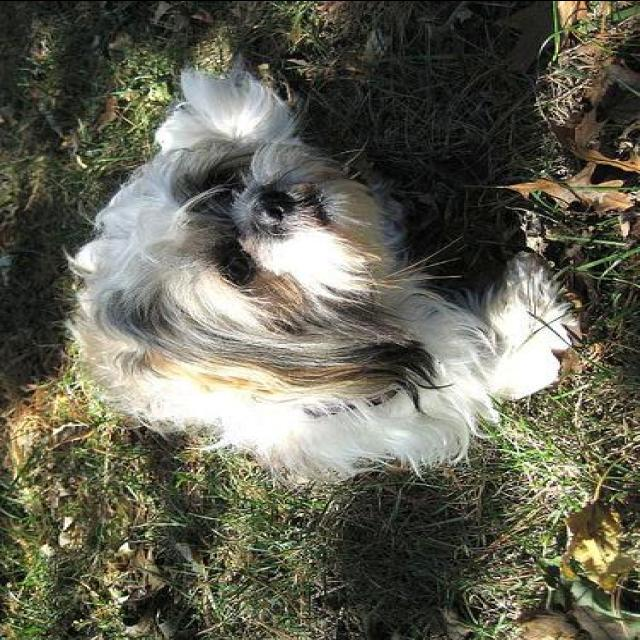shih_tzu: (65, 57, 582, 496)
